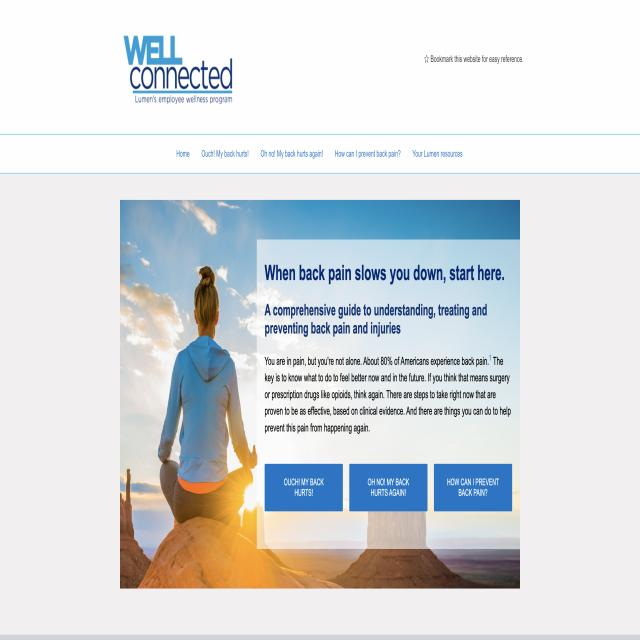Logo: (117, 22, 243, 122)
Navigation: (168, 129, 474, 170)
